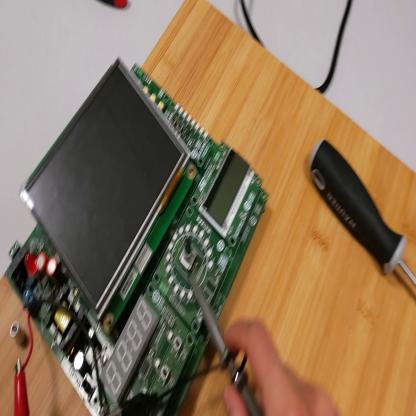hand: (221, 314, 339, 416)
low voltage board: (4, 62, 267, 416)
oscilloscope probe tip: (189, 284, 254, 416)
pliers: (106, 2, 130, 12)
screwdriver-: (311, 138, 416, 289)
working area: (1, 2, 416, 414)
